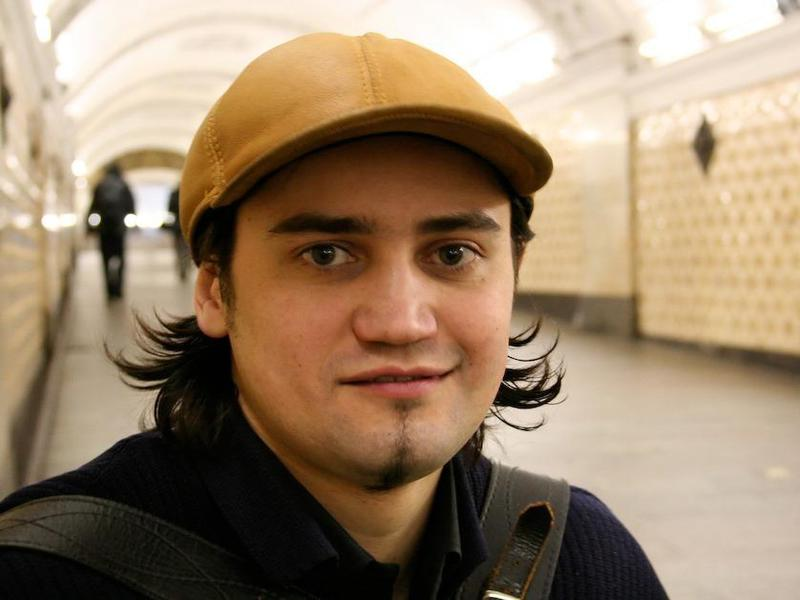person: (8, 29, 666, 591)
